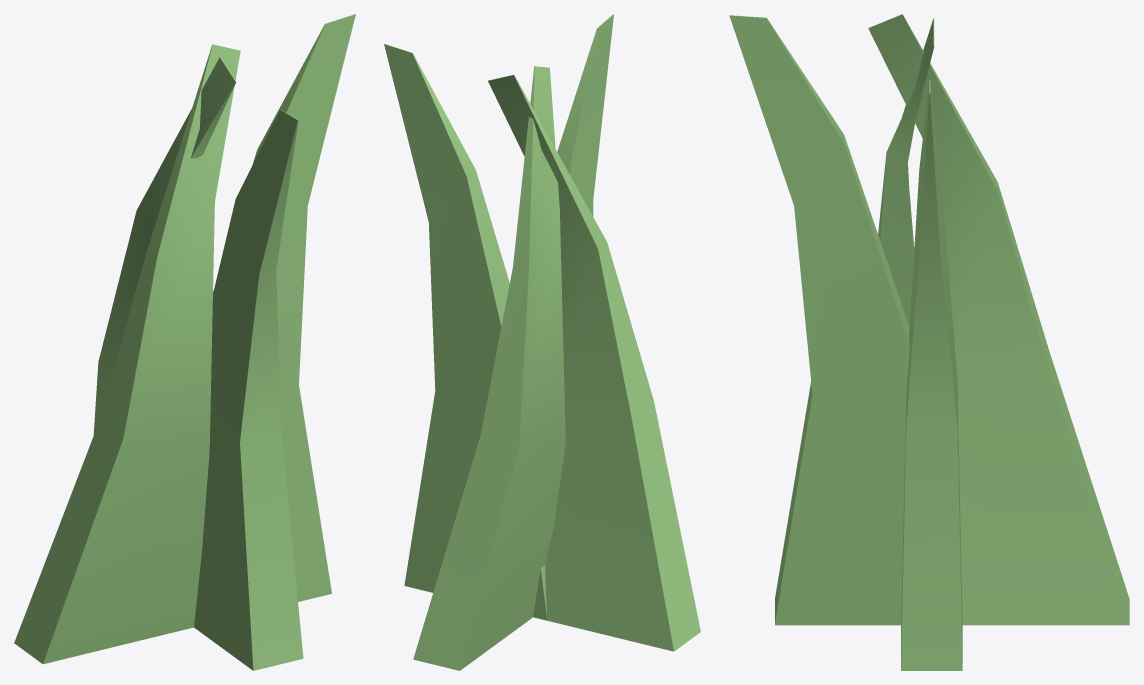
File: grass10.fbx
3 views of the same model, side by side, from view 1: azimuth 30°, elevation 25°; view 2: azimuth 150°, elevation 25°; view 3: azimuth 270°, elevation 25° (orthographic). The views are drawn at different scales.
Visible parts, largest first — view 1: pCube28; view 2: pCube28; view 3: pCube28.
Boxes of the visible parts, x1,y1,x2,y2 form: pCube28: [14, 14, 355, 670]; pCube28: [384, 14, 700, 670]; pCube28: [729, 14, 1129, 670].
Bounding box in the file's own units: 1.59 × 2.63 × 1.59.
